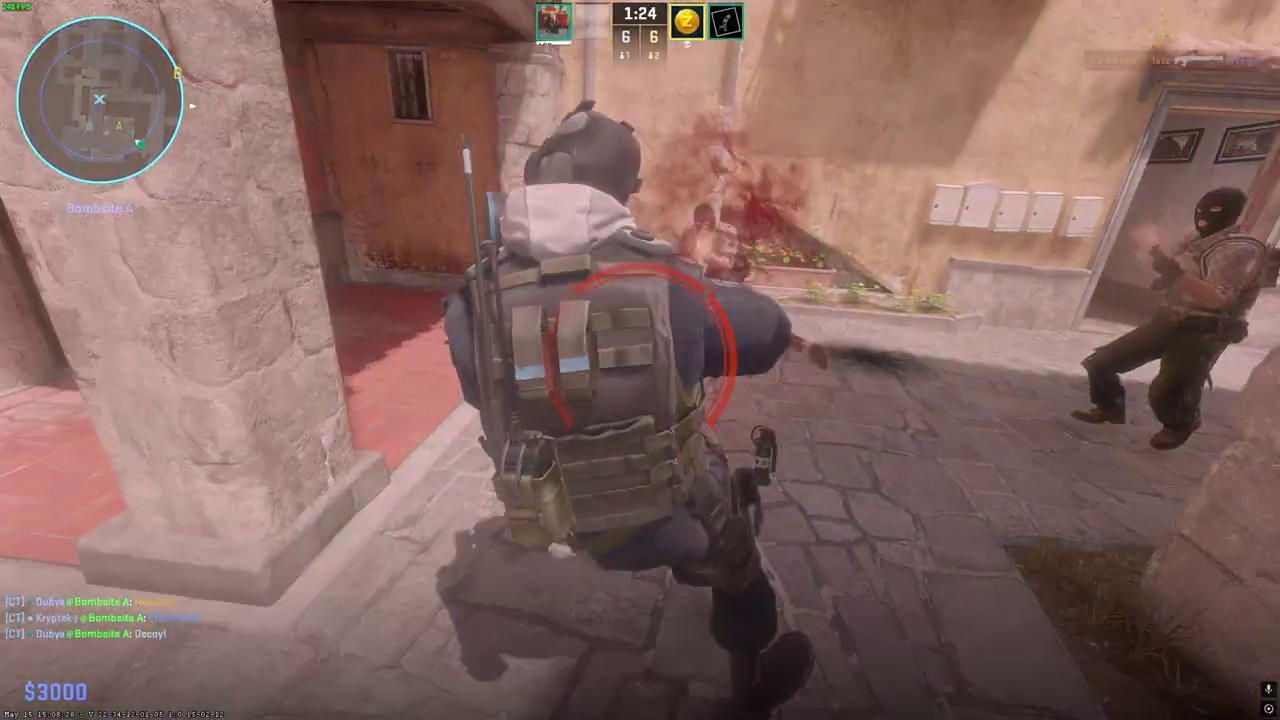Terrorist: (1086, 186, 1267, 451)
